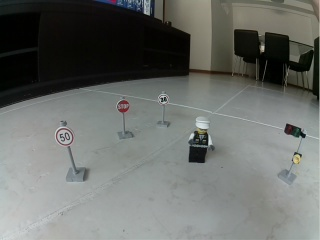Person: (186, 115, 216, 166)
Red Traffic Light: (276, 123, 308, 188)
Speed Limit 30: (158, 94, 169, 106)
Speed Limit 50: (55, 128, 74, 146)
Stop Sign: (115, 99, 130, 114)
